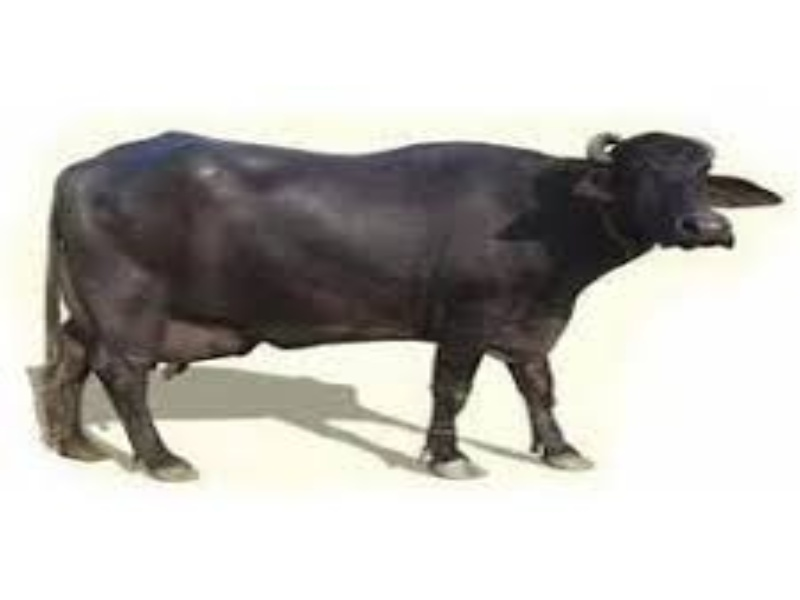buffalo: (21, 116, 787, 496)
